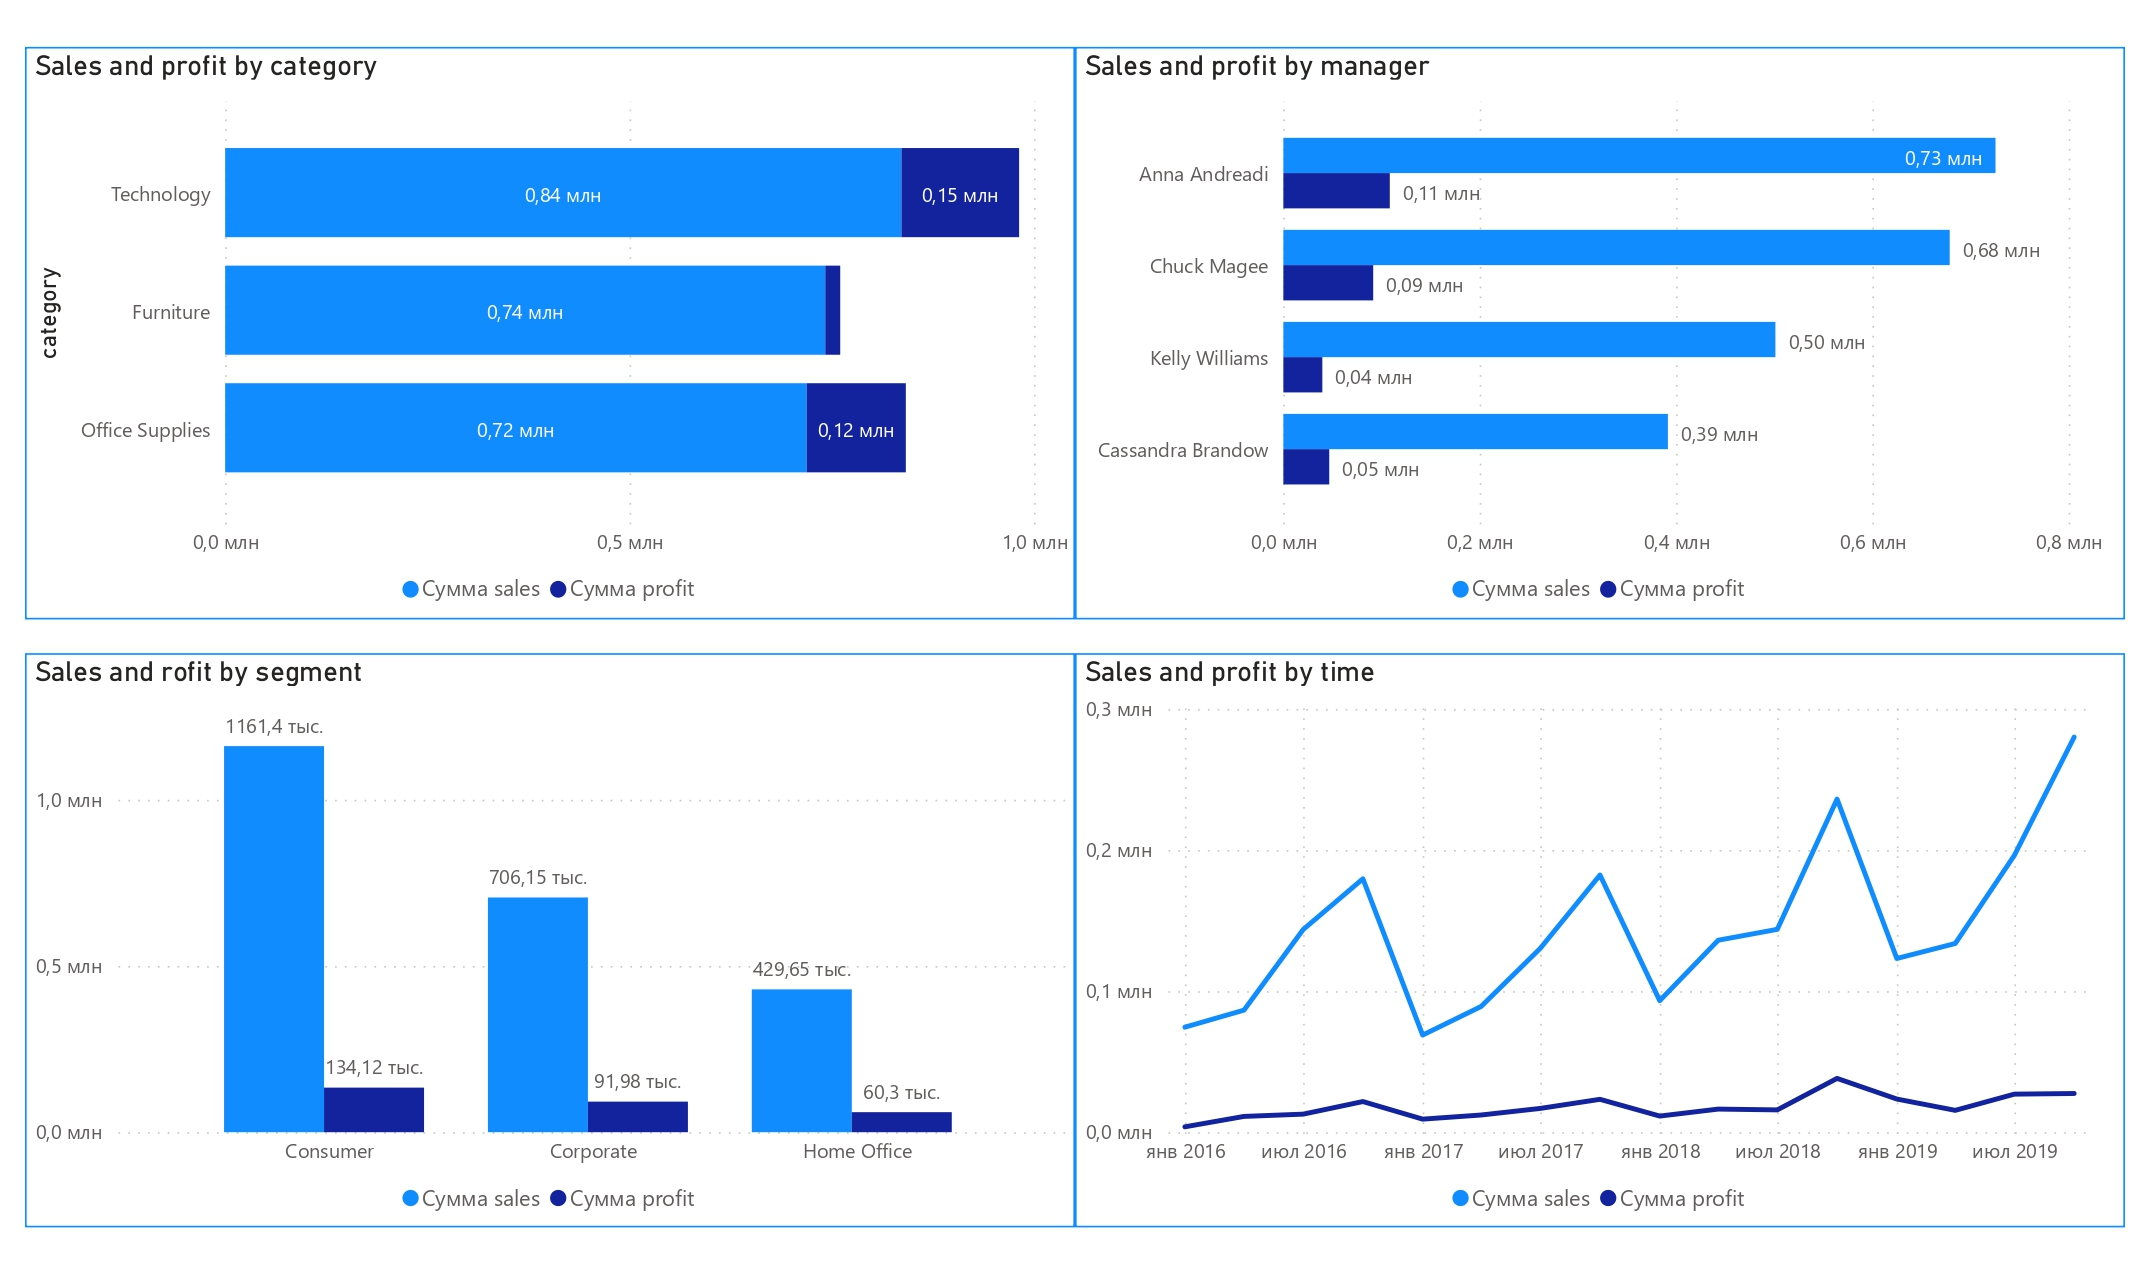

This screenshot's page, from the dashboard's own definition file:
{"tool":"powerbi","page":{"name":"Sales and profit","canvas":[1280,720],"ordinal":0},"visuals":[{"type":"barChart","title":"Sales and profit by category","fields":{"Category":["stg orders.category"],"Y":["Sum(stg orders.sales)","Sum(stg orders.profit)"]},"box":[0,0,640,348.6],"z":0},{"type":"clusteredColumnChart","title":"Sales and rofit by segment","fields":{"Y":["Sum(datw sales_fact_datw.sales)","Sum(datw sales_fact_datw.profit)"],"Category":["datw customer_datw.segment"]},"box":[0,370,640,350],"z":1000},{"type":"clusteredBarChart","title":"Sales and profit by manager","fields":{"Category":["datw person_datw.person"],"Y":["Sum(datw sales_fact_datw.sales)","Sum(datw sales_fact_datw.profit)"]},"box":[640,0,640,348.6],"z":2000},{"type":"lineChart","title":"Sales and profit by time","fields":{"Category":["datw sales_fact_datw.order_date.Изменение.Иерархия дат.Год","datw sales_fact_datw.order_date.Изменение.Иерархия дат.Квартал","datw sales_fact_datw.order_date.Изменение.Иерархия дат.Месяц"],"Y":["Sum(datw sales_fact_datw.sales)","Sum(datw sales_fact_datw.profit)"]},"box":[640,370,640,350],"z":3000}]}

Visuals, with their boxes on the page's 1280x720 design canvas (x1, y1, x2, y2). These are canvas units, not pixel positions in the 2150x1275 screenshot, which may show the page scaled, cropped or inside an application window:
"Sales and profit by category" barChart: [left=0, top=0, right=640, bottom=349]
"Sales and rofit by segment" clusteredColumnChart: [left=0, top=370, right=640, bottom=720]
"Sales and profit by manager" clusteredBarChart: [left=640, top=0, right=1280, bottom=349]
"Sales and profit by time" lineChart: [left=640, top=370, right=1280, bottom=720]
